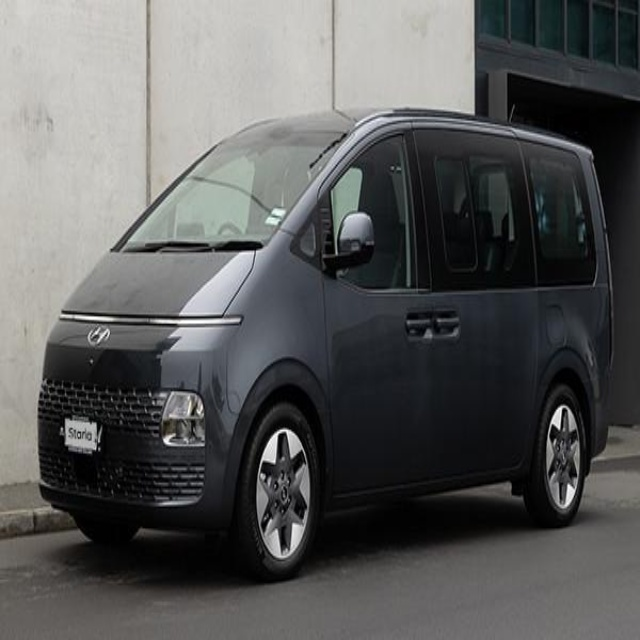Van: (33, 106, 614, 583)
